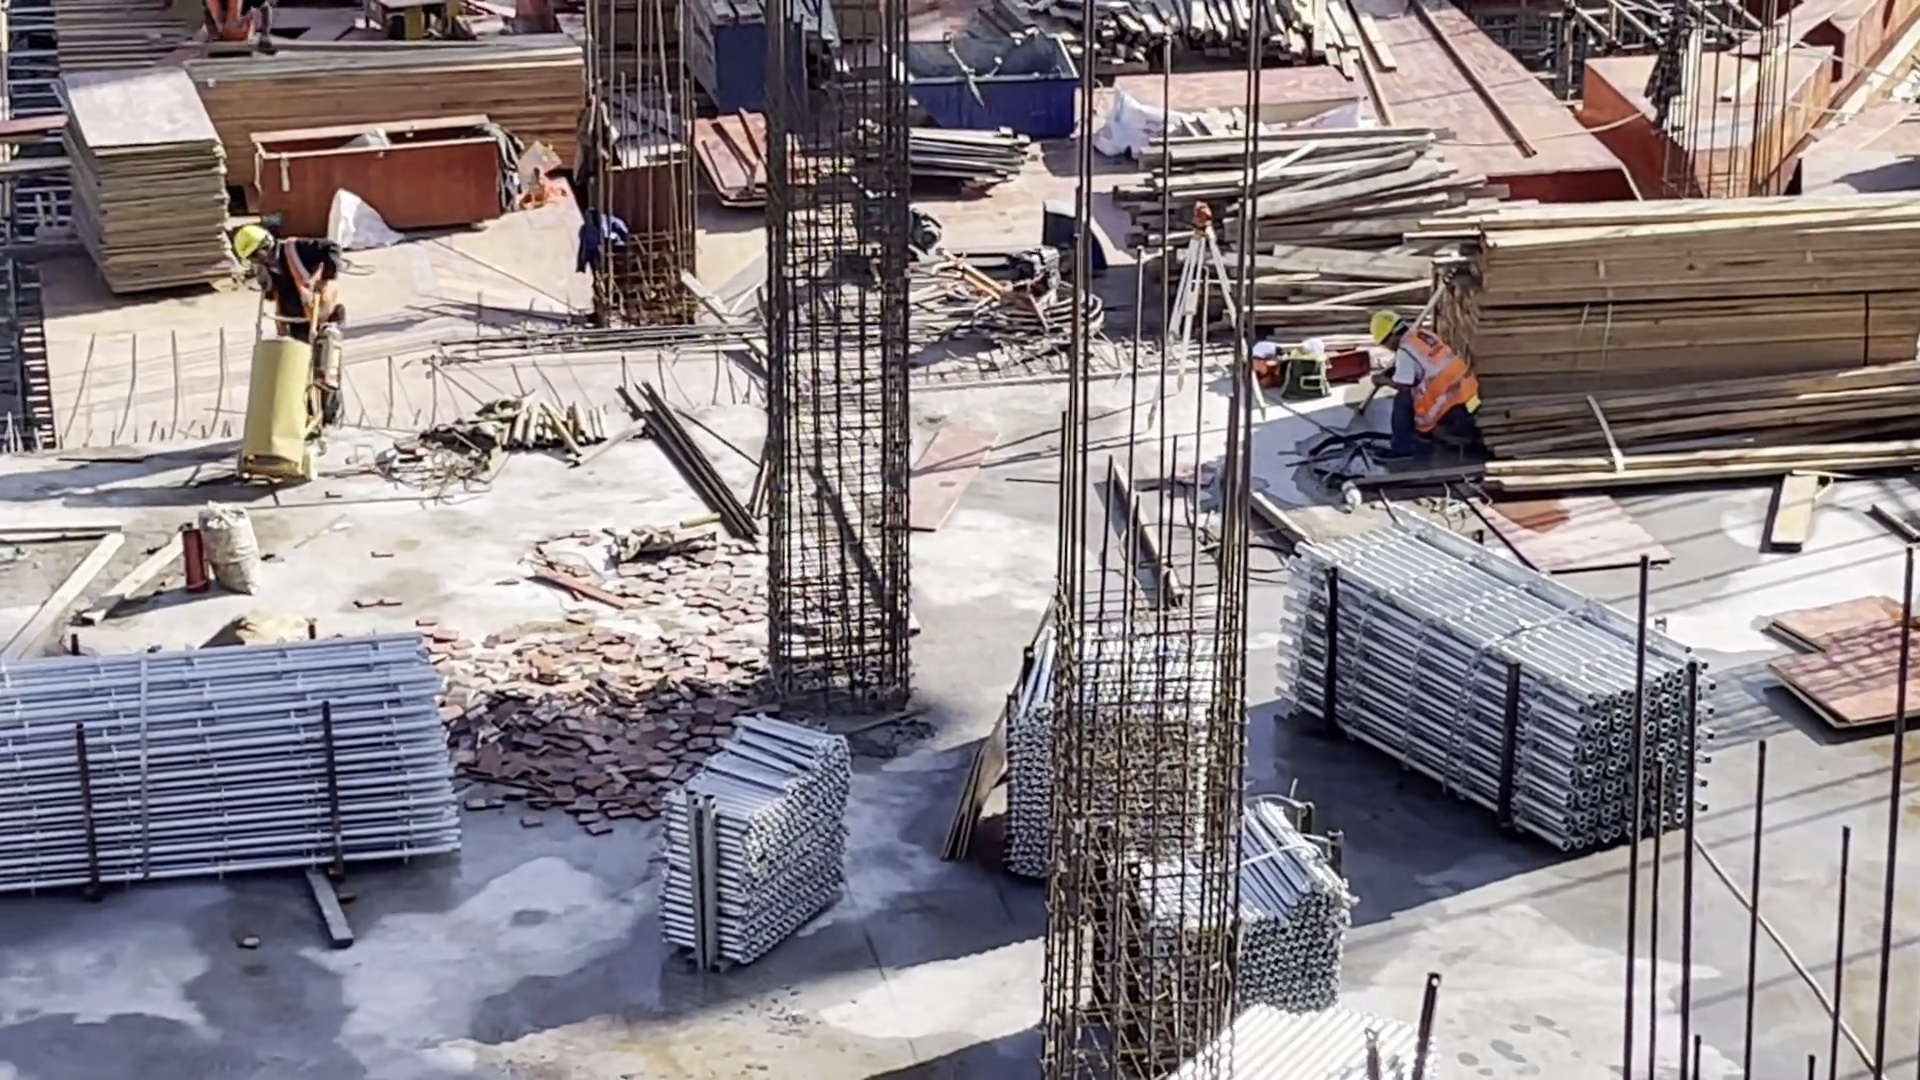board: (55, 65, 239, 297)
helmet: (235, 227, 277, 258), (1372, 313, 1398, 340)
hopper: (880, 36, 1077, 134)
person: (233, 226, 355, 426), (1367, 309, 1481, 467)
scaffold: (1010, 593, 1434, 1080), (1276, 507, 1714, 850), (2, 629, 462, 892), (661, 711, 844, 965)
vest: (1400, 324, 1476, 432), (270, 239, 335, 336)
wood: (1399, 187, 1920, 483), (1117, 123, 1452, 363), (191, 37, 587, 186)
